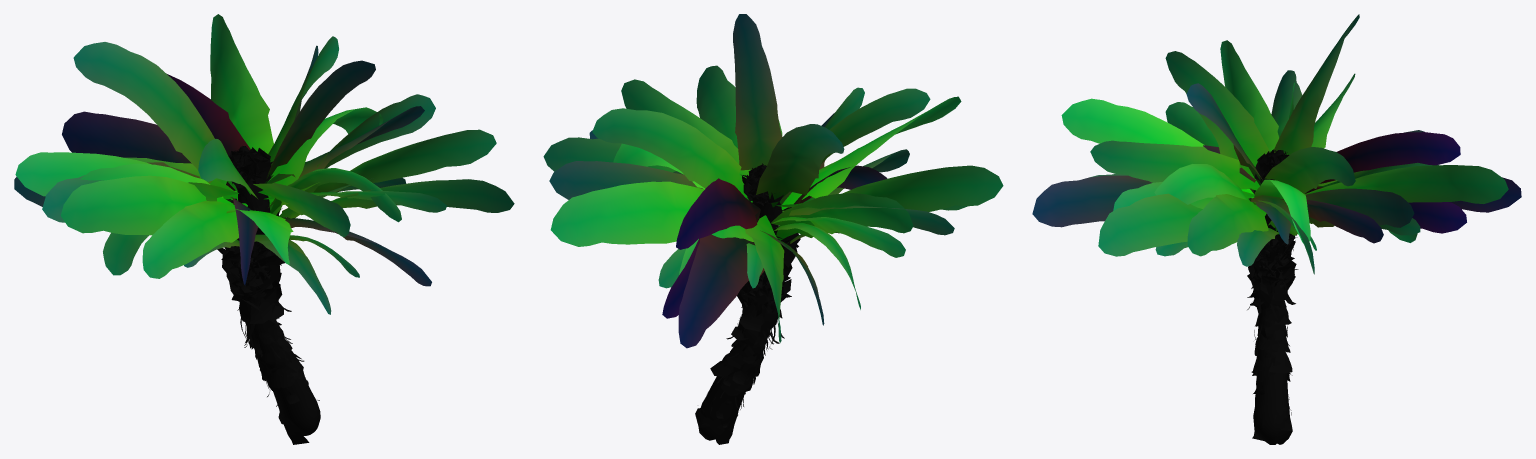
File: Palm_4_Mesh.fbx
3 views of the same model, side by side, from view 1: azimuth 30°, elevation 25°; view 2: azimuth 150°, elevation 25°; view 3: azimuth 270°, elevation 25° (orthographic). The views are drawn at different scales.
Parts seen in each view (by area): view 1: Palm_4_LOD0; view 2: Palm_4_LOD0; view 3: Palm_4_LOD0.
Part boxes in pixels (left/top/right/bottom): Palm_4_LOD0: left=14, top=14, right=514, bottom=444; Palm_4_LOD0: left=543, top=14, right=1003, bottom=444; Palm_4_LOD0: left=1032, top=14, right=1521, bottom=444.
Size of the model in its own units: 248 by 227 by 274.
